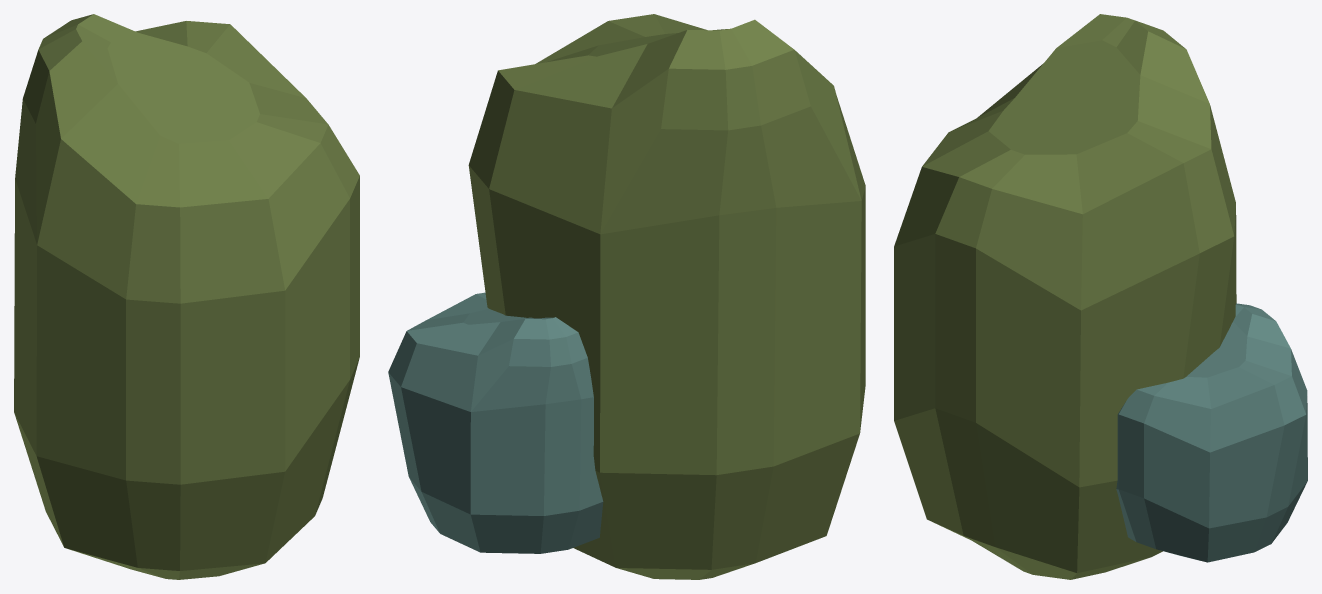
File: Bush_thicc.fbx
The picture shows the model from 3 angles, left to right: view 1: azimuth 30°, elevation 25°; view 2: azimuth 150°, elevation 25°; view 3: azimuth 270°, elevation 25°; orthographic projection. The views are drawn at different scales.
Parts seen in each view (by area): view 1: Bush_thicc; view 2: Bush_thicc; view 3: Bush_thicc.
Part boxes in pixels (<box>): Bush_thicc: <box>14,14,359,579</box>; Bush_thicc: <box>388,14,865,579</box>; Bush_thicc: <box>894,14,1307,579</box>.
Bounding box in the file's own units: 227 × 344 × 257.
